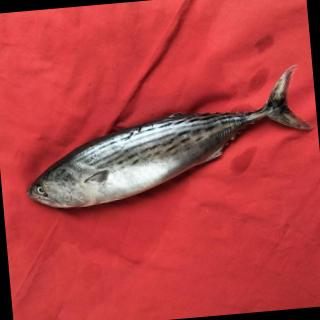Ikan: (10, 63, 320, 220)
